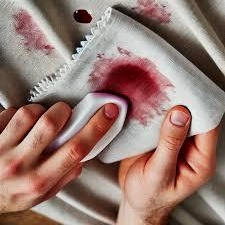wine: (87, 66, 164, 120), (20, 13, 53, 54), (129, 0, 170, 30), (71, 8, 92, 25)
